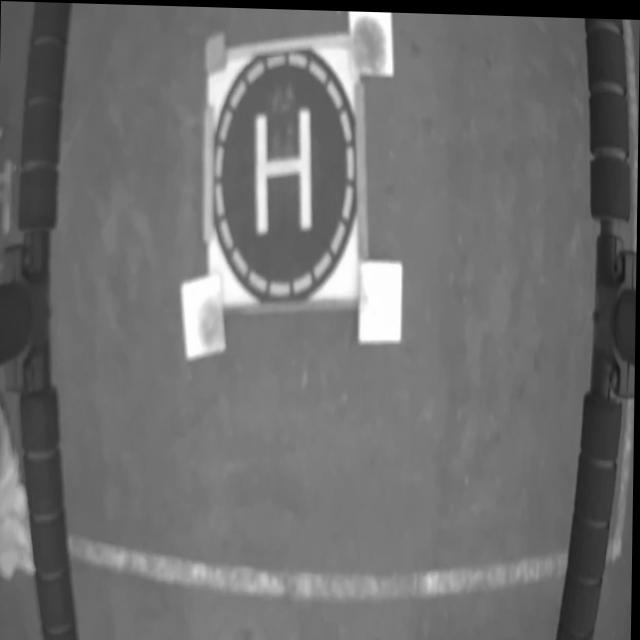Helipad: (253, 103, 311, 234)
